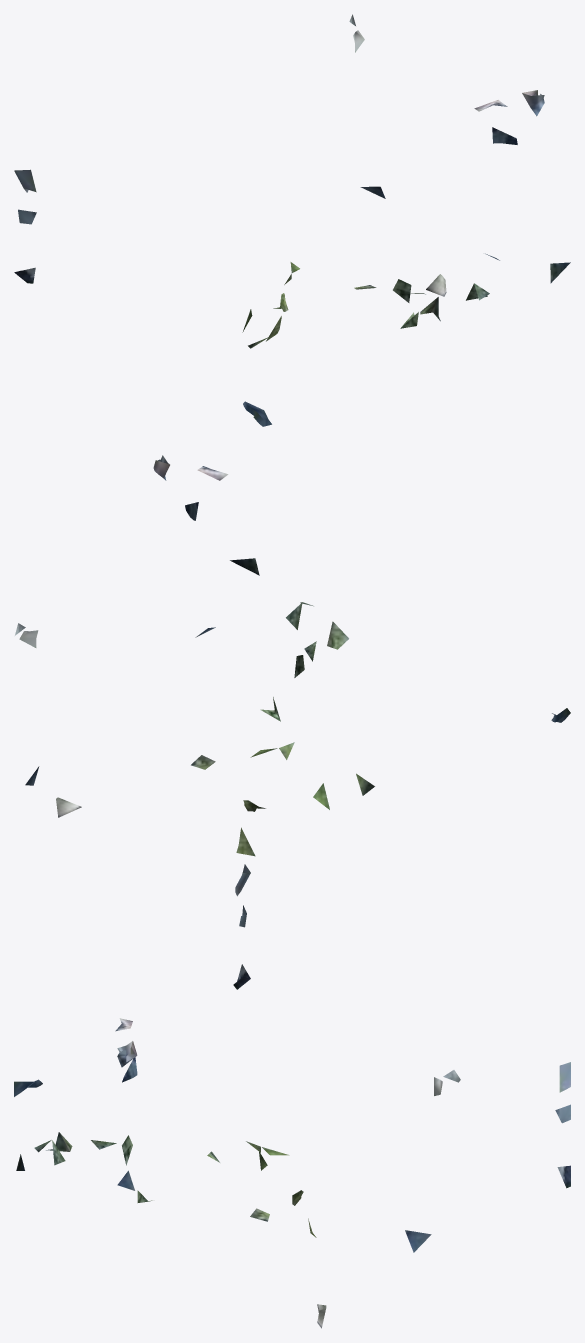
3 renders of one model, top to bottom at view 1: azimuth 30°, elevation 25°; view 2: azimuth 150°, elevation 25°; view 3: azimuth 270°, elevation 25°, orthographic. The views are drawn at different scales.
Visible parts, largest first — view 1: 30436272704361634406_1; view 2: 30436272704361634406_1; view 3: 30436272704361634406_1.
Part boxes in pixels (left/top/right/bottom): 30436272704361634406_1: left=14, top=14, right=570, bottom=426; 30436272704361634406_1: left=15, top=455, right=570, bottom=989; 30436272704361634406_1: left=14, top=1018, right=570, bottom=1328.
Size of the model in its own units: 27.61 by 21.57 by 38.26.
1 material, 1 textured.
